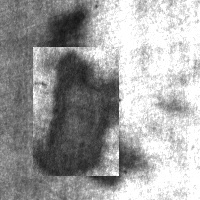patches: (47, 12, 138, 184), (33, 47, 119, 176)
